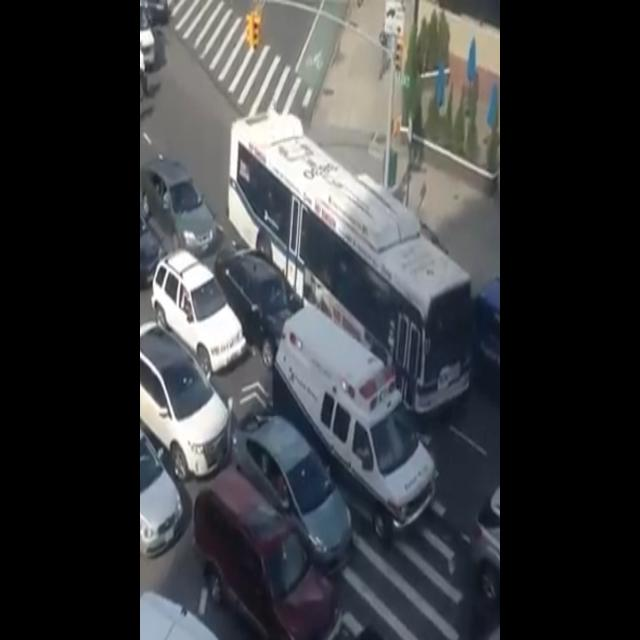Ambulance: (274, 283, 436, 528)
